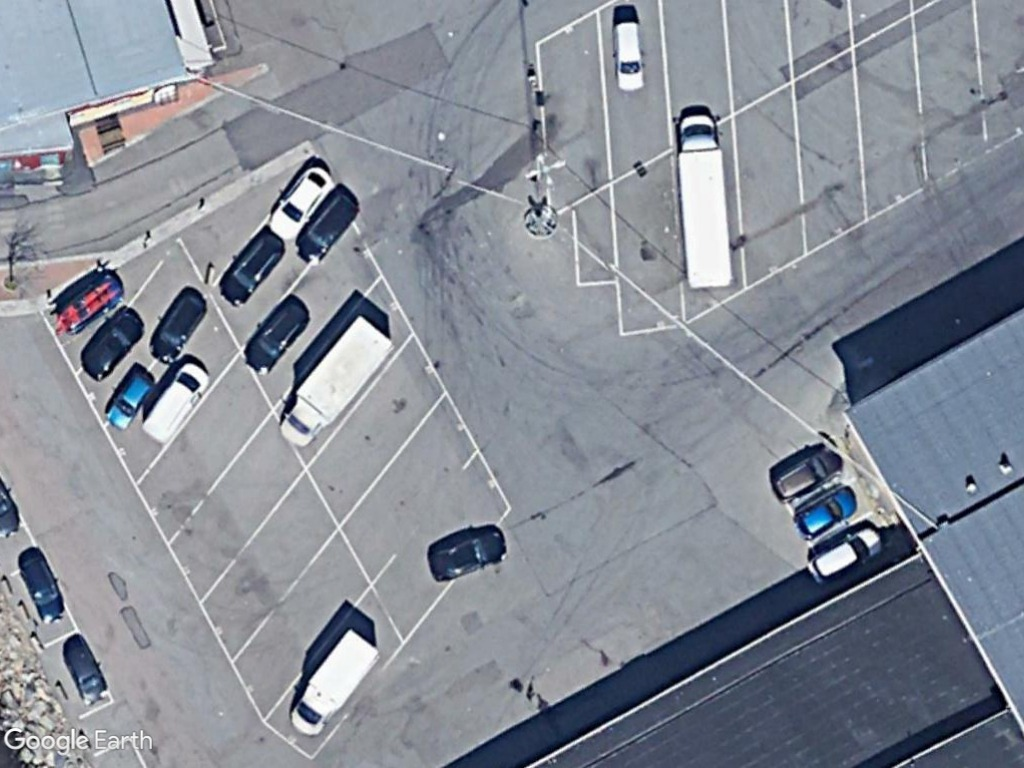car: (289, 184, 368, 275), (803, 520, 889, 594), (261, 160, 337, 243), (219, 223, 292, 308), (245, 290, 311, 378), (78, 302, 147, 386), (423, 521, 509, 586), (765, 444, 846, 510), (147, 285, 209, 368), (12, 545, 68, 629), (790, 480, 867, 541), (100, 363, 162, 434), (61, 633, 113, 709)
truck: (671, 107, 741, 296), (285, 626, 384, 745)
van: (136, 352, 215, 452), (603, 15, 651, 96)
